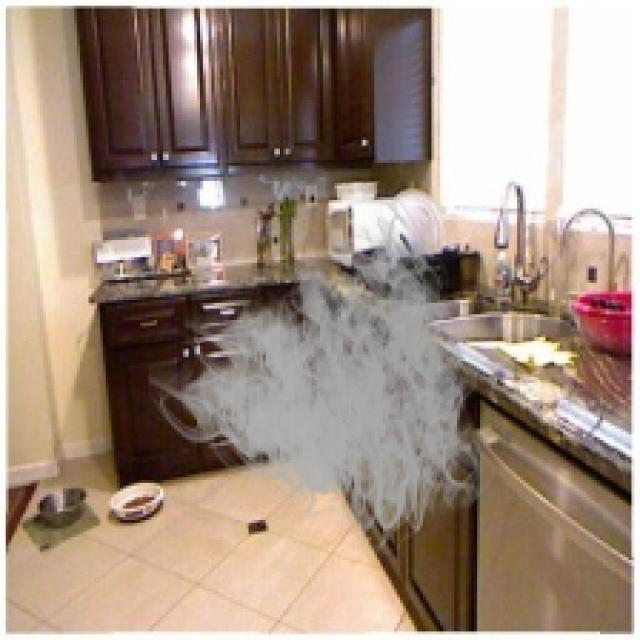smoke: (148, 183, 503, 566)
